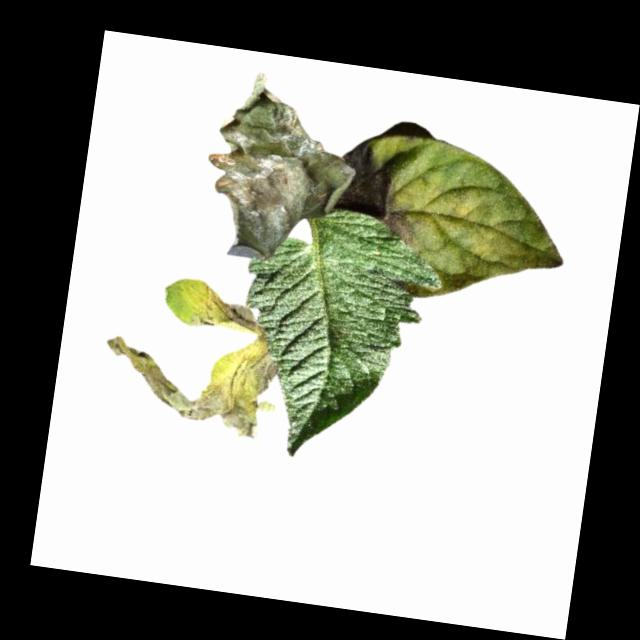Late_blight: (196, 69, 364, 270), (93, 332, 278, 443), (343, 142, 426, 244), (179, 278, 263, 336)
healthy: (223, 199, 448, 473)
